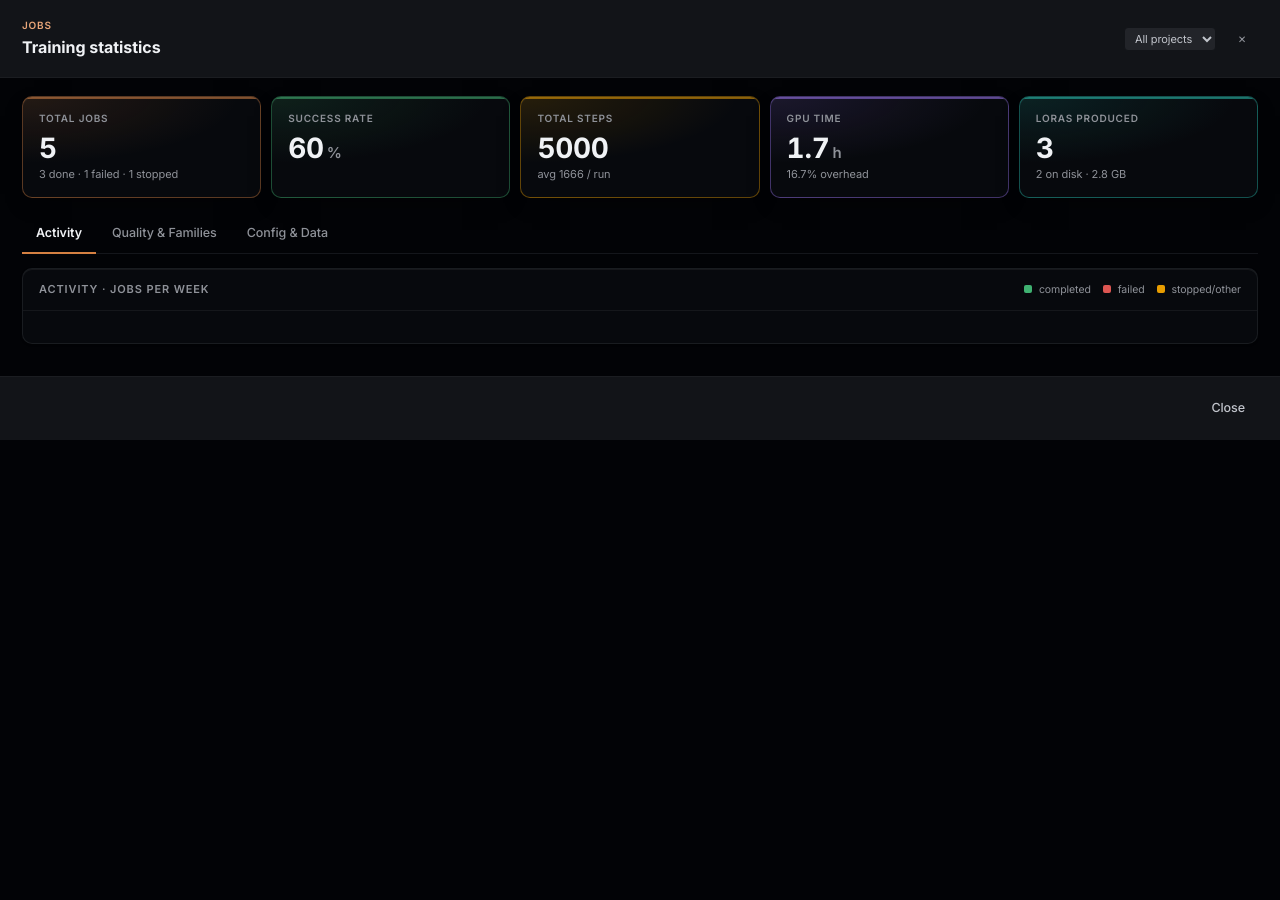
Test case: TrainingStatsModalComponent › renders the activity section when there is activity, and the histogram fallback note when not
Click the button with class "tab" showing "Quality & Families".
click(164, 234)  # box left=98, top=214, right=231, bottom=254
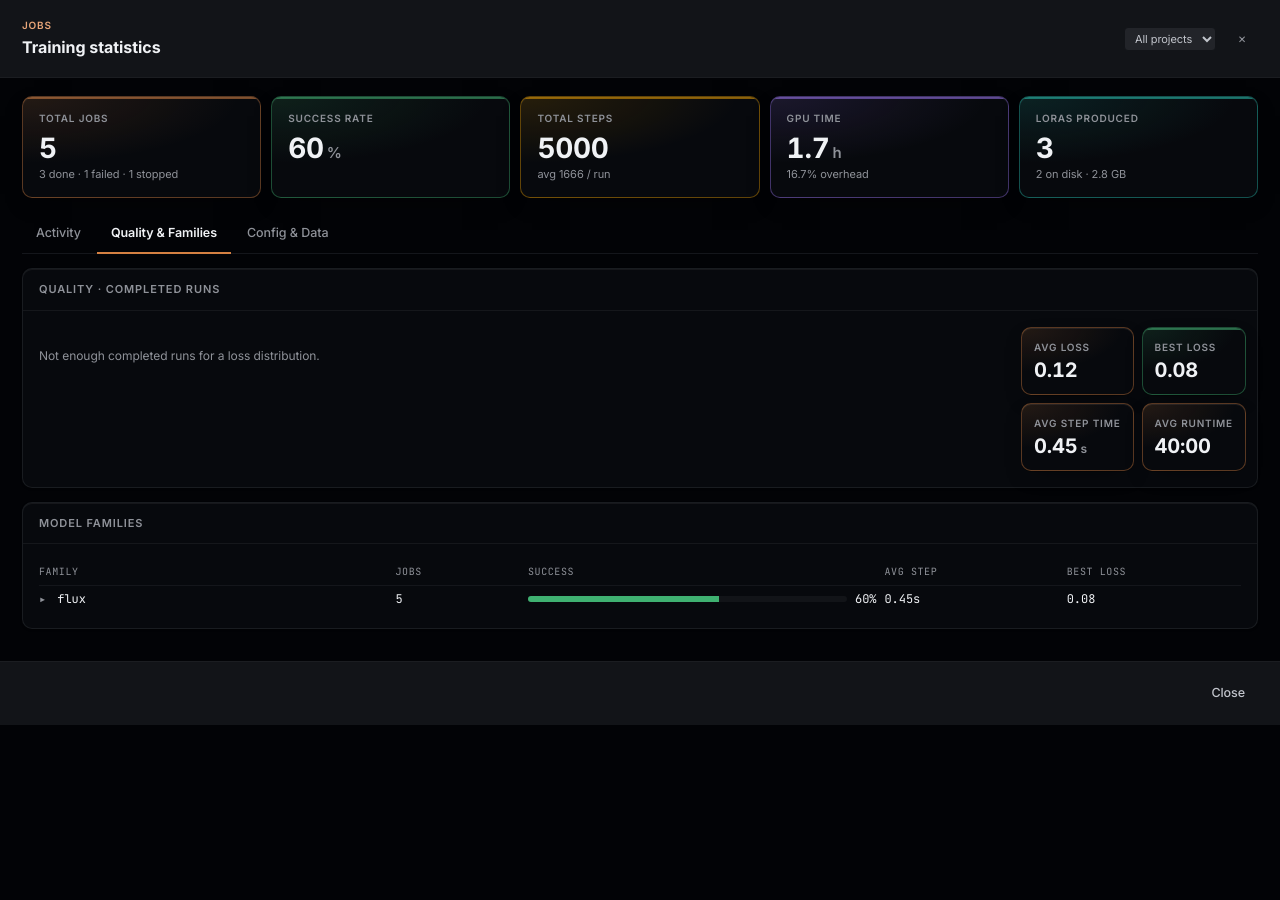
Result: the text "Not enough completed runs" is shown at left=39, top=348, right=320, bottom=363
